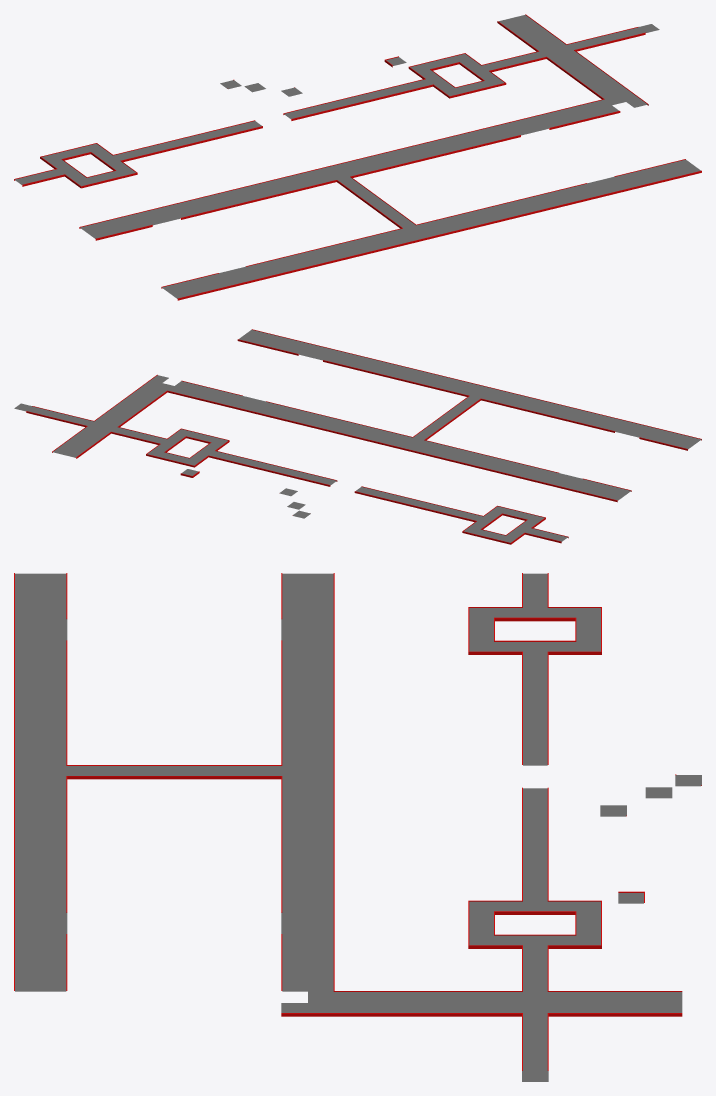
The model's file is routetest 1.fbx.
3 renders of one model, top to bottom at view 1: azimuth 30°, elevation 25°; view 2: azimuth 150°, elevation 25°; view 3: azimuth 270°, elevation 25°, orthographic. The views are drawn at different scales.
Visible parts, largest first — view 1: pCube313; view 2: pCube313; view 3: pCube313.
Boxes of the visible parts, bbox=[...] form: pCube313: bbox=[14, 14, 701, 300]; pCube313: bbox=[14, 329, 701, 544]; pCube313: bbox=[14, 573, 701, 1081].
Bounding box in the file's own units: 45 × 0.1323 × 25.74.
